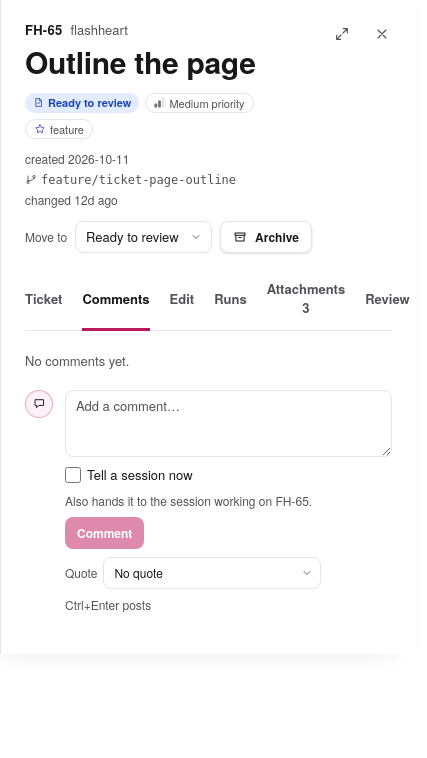
Test: telling a session now on the card panel (FH-127) › keeps the comment and reloads when the session is no longer live
This screenshot has width=427, height=758.
In the text box labelled "Add a comment": (228,424) left=65, top=390, right=392, bottom=457, type "Too late?"
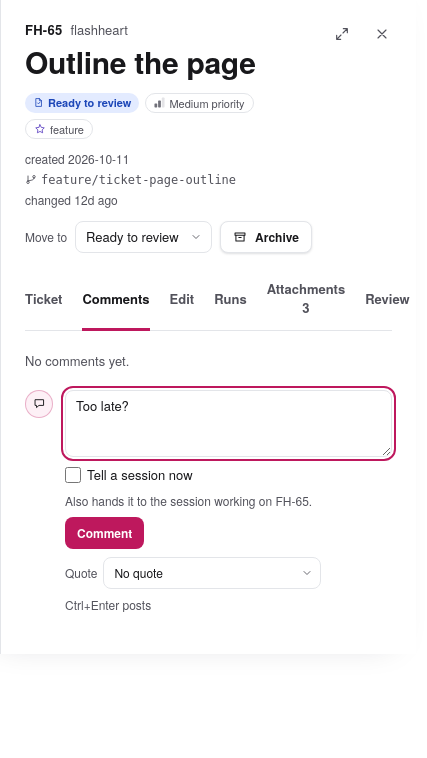
Click the checkbox labelled "Tell a session now": (73,475) left=65, top=467, right=81, bottom=483
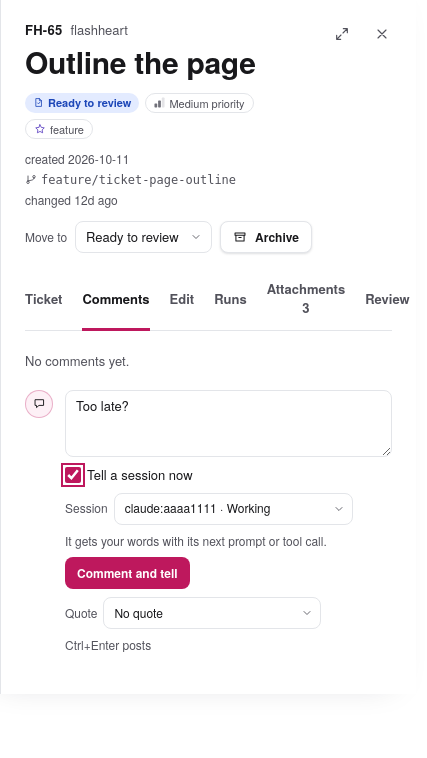
Click the button "Comment and tell": (127,573) left=65, top=557, right=190, bottom=589
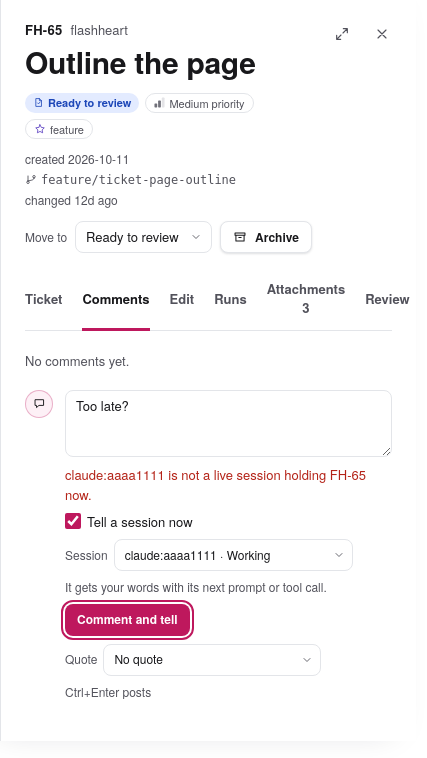
Check: the message shows "not a live session", box left=65, top=465, right=366, bottom=504
